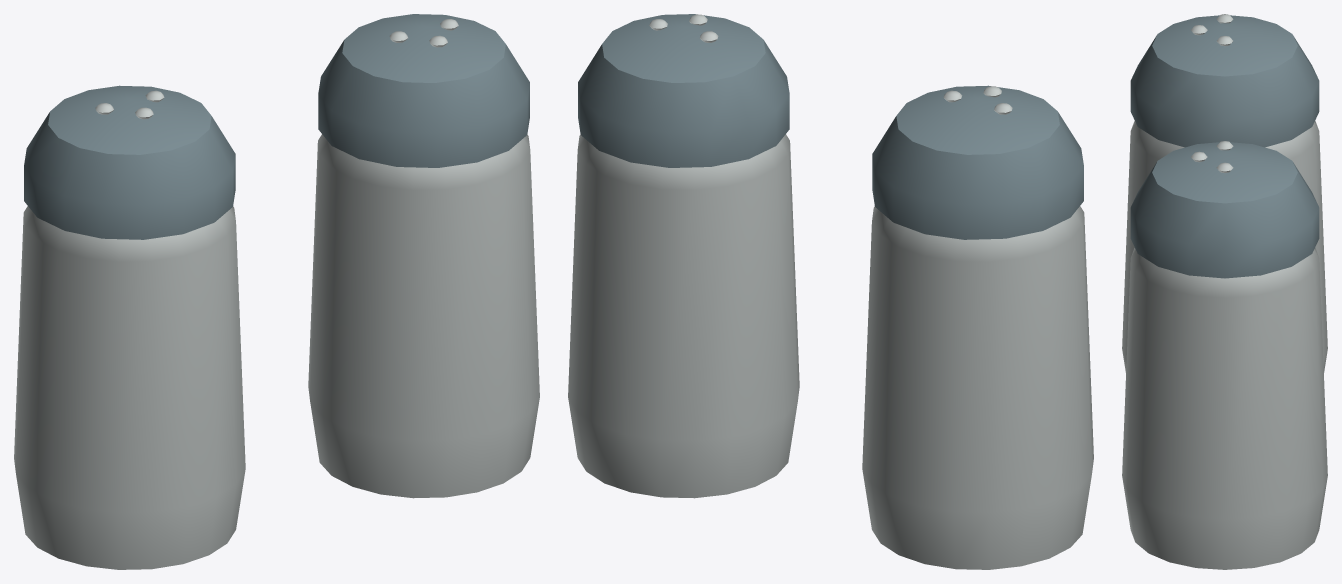
Rendered from salt-and-pepper.glb.
3 renders of one model, left to right at view 1: azimuth 30°, elevation 25°; view 2: azimuth 150°, elevation 25°; view 3: azimuth 270°, elevation 25°, orthographic. The views are drawn at different scales.
Visible parts, largest first — view 1: shaker_body, shaker_body.001, domed_cap, domed_cap.001; view 2: shaker_body, shaker_body.001, domed_cap, domed_cap.001; view 3: shaker_body.001, domed_cap.001, domed_cap, shaker_body.
Boxes of the visible parts, x1,y1,x2,y2 form: shaker_body: (14, 206, 245, 569); shaker_body.001: (308, 134, 539, 498); domed_cap: (24, 85, 235, 239); domed_cap.001: (318, 14, 529, 167); shaker_body: (862, 206, 1093, 569); shaker_body.001: (568, 134, 799, 498); domed_cap: (872, 85, 1083, 239); domed_cap.001: (578, 14, 789, 167); shaker_body.001: (1122, 248, 1327, 569); domed_cap.001: (1130, 142, 1319, 278); domed_cap: (1130, 15, 1319, 147); shaker_body: (1122, 121, 1327, 372).
Size of the model in its own units: 0.118 by 0.097 by 0.048.
